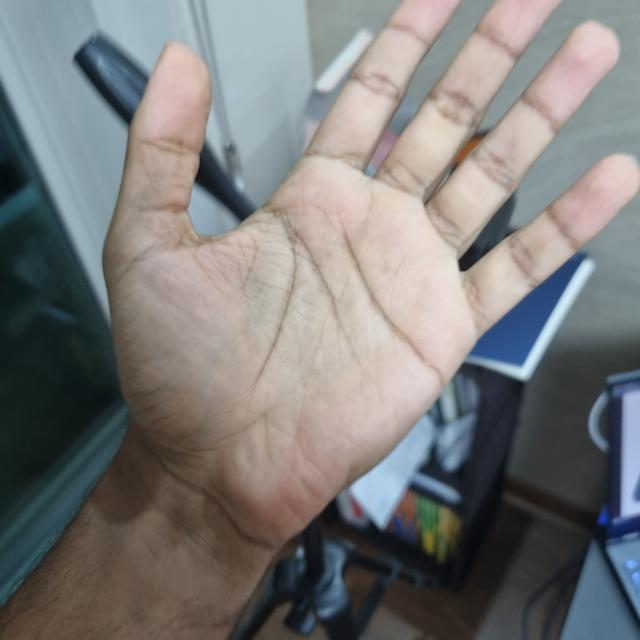Paper: (102, 3, 639, 536)
